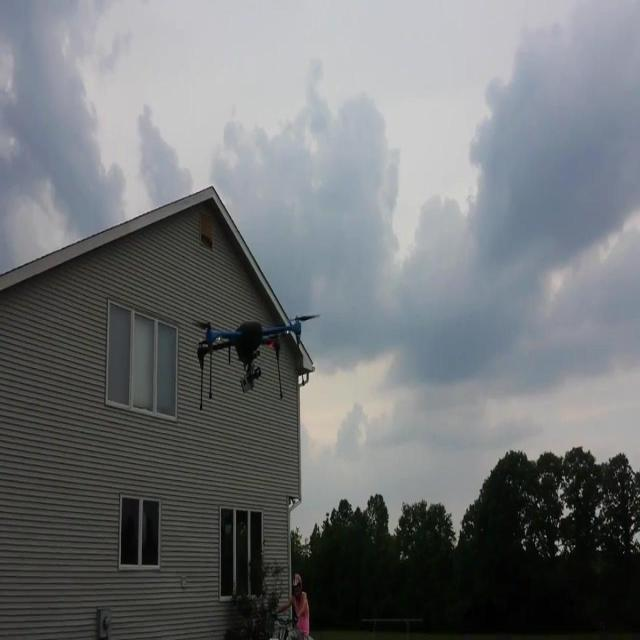drone: (195, 311, 323, 415)
